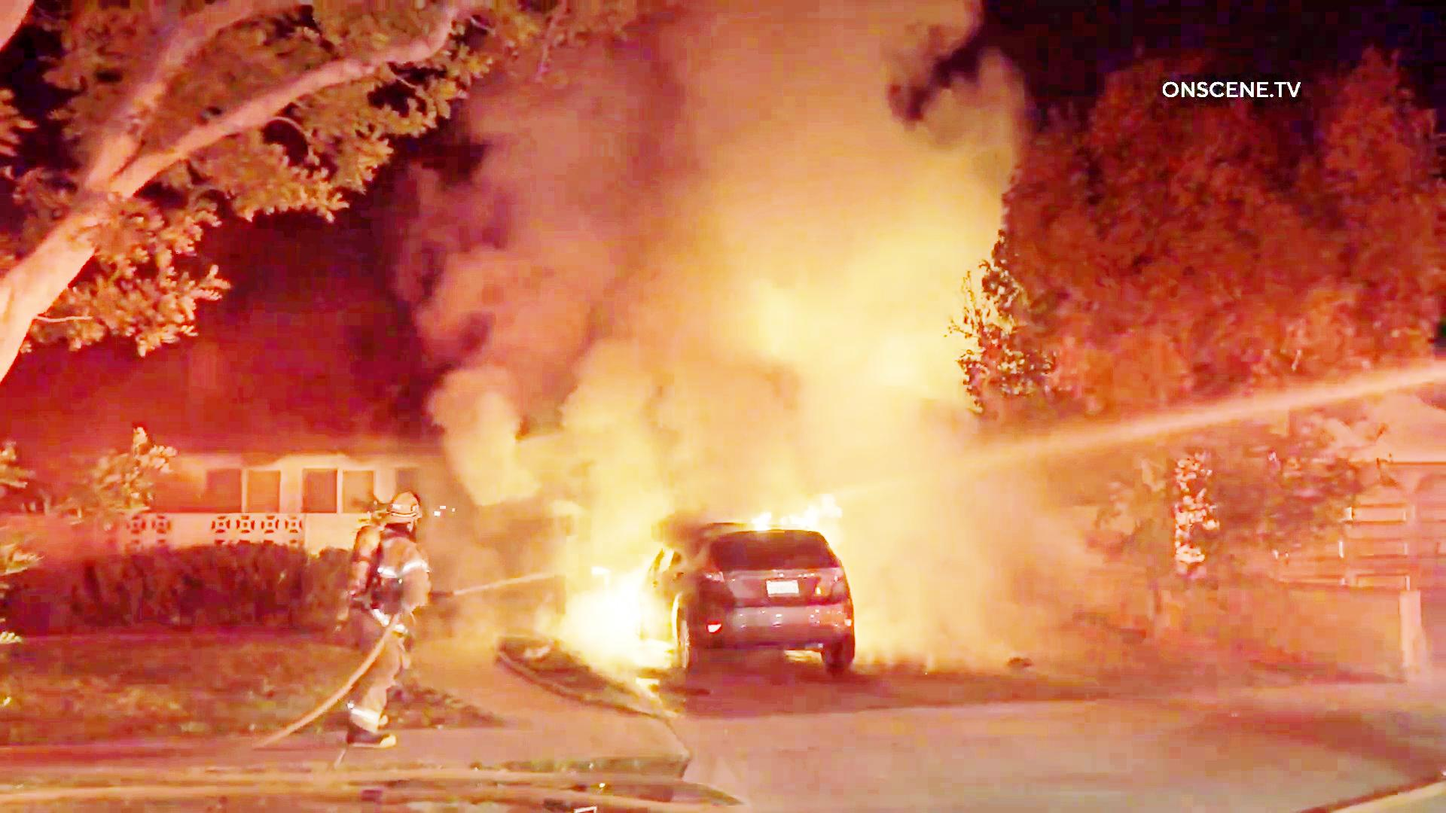fire: (554, 569, 633, 660), (720, 492, 828, 541)
smoke: (573, 0, 927, 288), (422, 305, 957, 469), (859, 448, 1066, 663)
